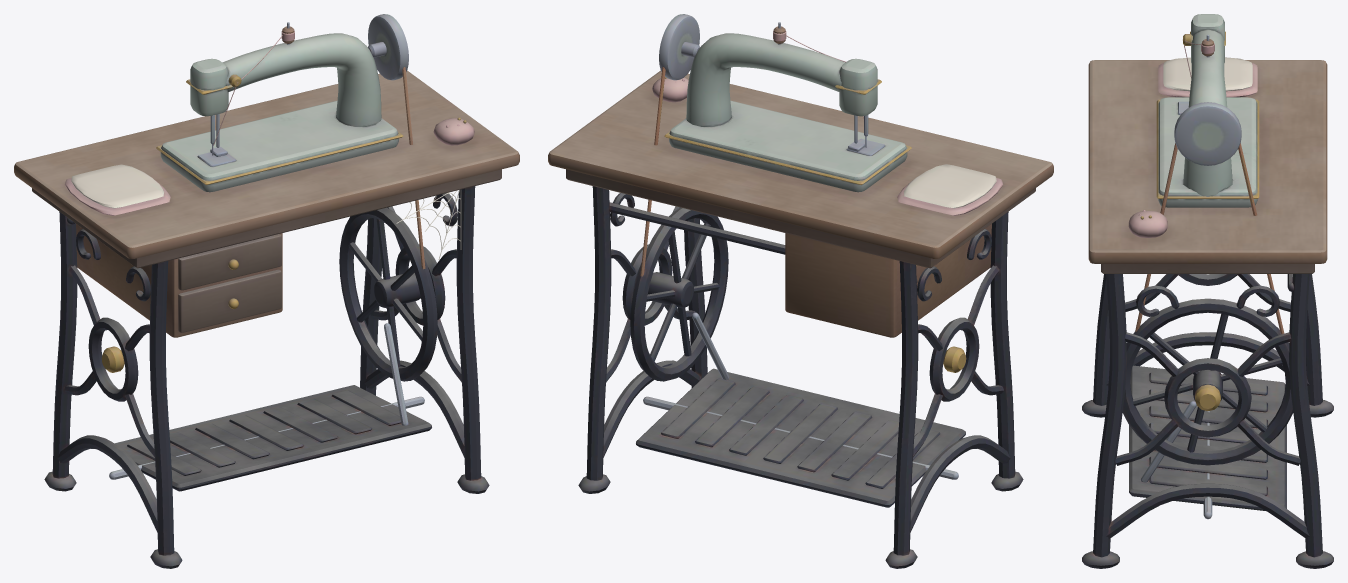
Rendered from old-sewing-machine.glb.
The picture shows the model from 3 angles, left to right: view 1: azimuth 30°, elevation 25°; view 2: azimuth 150°, elevation 25°; view 3: azimuth 270°, elevation 25°; orthographic projection.
Visible parts, largest first — view 1: old-sewing-machine_body, old-sewing-machine_web; view 2: old-sewing-machine_body; view 3: old-sewing-machine_body.
Boxes of the visible parts, left/top/right/bottom form: old-sewing-machine_body: left=14, top=14, right=519, bottom=568; old-sewing-machine_web: left=396, top=190, right=461, bottom=259; old-sewing-machine_body: left=548, top=14, right=1053, bottom=568; old-sewing-machine_body: left=1082, top=14, right=1333, bottom=568.
Bounding box in the file's own units: 0.92 × 1.03 × 0.5061.
Materials: 2 (1 with a texture image).
